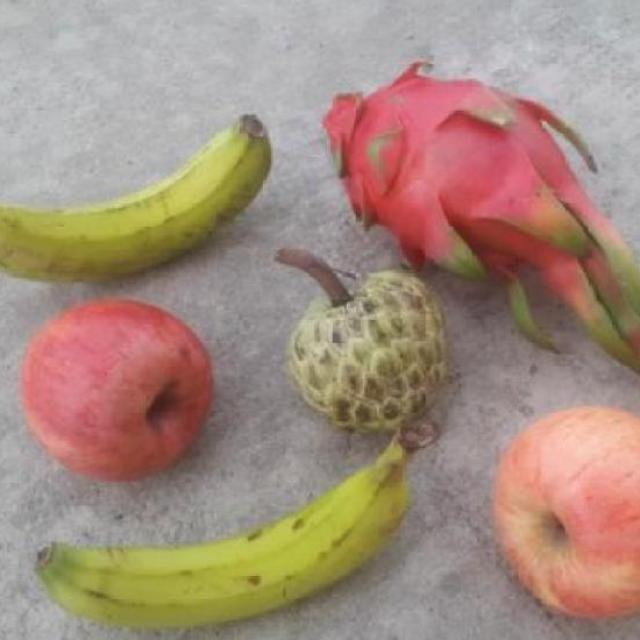apple: (13, 299, 219, 476), (491, 407, 640, 617)
banana: (34, 414, 438, 636), (0, 109, 281, 288)
dragon fruit: (322, 64, 580, 263)
sugar apple: (289, 260, 452, 430)
